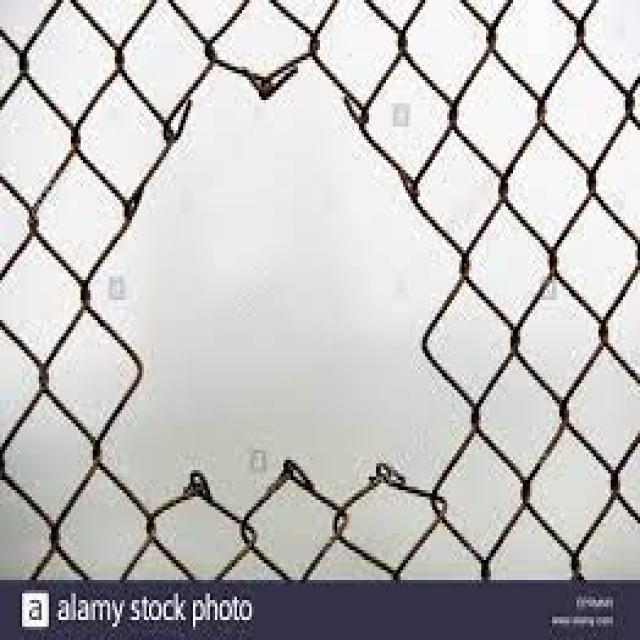fence line: (105, 53, 462, 520)
